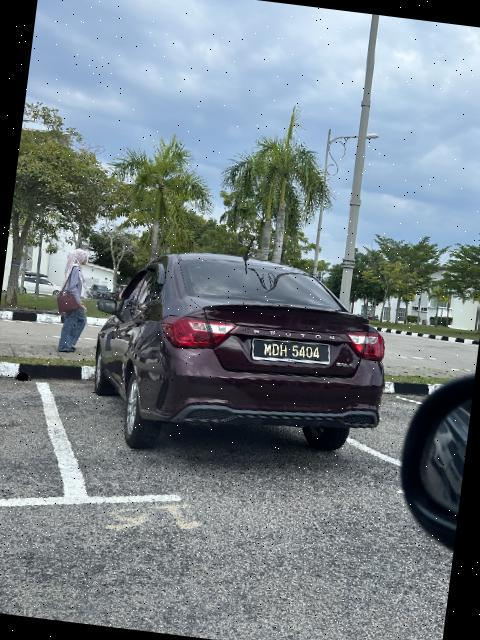License_Plate: (249, 335, 335, 373)
MDH5404: (249, 335, 335, 373)
car: (80, 235, 403, 481)
